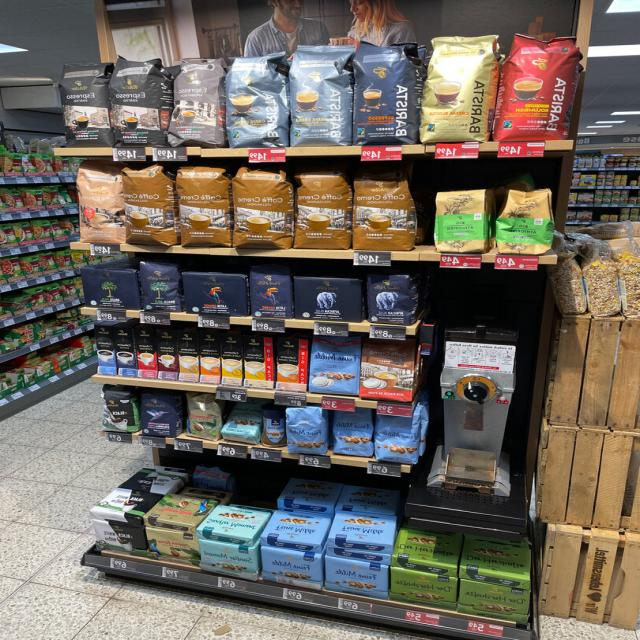AB Bohne: (364, 270, 419, 327)
AB Gemahlen: (292, 275, 364, 324)
Athiopien Bohne: (493, 184, 556, 255)
Athiopien Gemahlen: (430, 185, 489, 253)
BM Bohne: (134, 259, 181, 313)
BM Gemahlen: (77, 265, 143, 311)
BW Bohne: (97, 386, 139, 434)
BW Gemahlen: (88, 486, 164, 517), (91, 519, 147, 559), (115, 466, 187, 494)
Barista CB: (418, 31, 503, 143)
Barista CC: (285, 42, 354, 147), (224, 49, 287, 150)
Barista Espresso: (350, 40, 418, 147)
Barista Kolumbien: (489, 32, 585, 143)
C Fino Bohne: (136, 389, 180, 438)
CC Mild: (72, 161, 124, 244)
CC Vollmundig: (358, 337, 419, 404)
CC Vollmundig 36 Pads: (349, 162, 414, 252), (289, 162, 354, 251), (231, 163, 292, 250), (171, 164, 231, 251), (118, 165, 178, 246)
Colombia BB Bohne: (182, 391, 222, 441)
Colombia BB Gemahlen: (142, 493, 216, 526), (144, 527, 199, 567)
Espresso Aromatisch: (166, 55, 225, 148)
Espresso Kraftig: (108, 55, 166, 148), (57, 59, 111, 147)
FM 36 Pads: (308, 334, 362, 398)
FM Bohne: (372, 413, 420, 467), (328, 410, 376, 459), (281, 406, 328, 456)
FM Gemahlen: (323, 556, 389, 601), (259, 547, 323, 591), (259, 509, 332, 545), (327, 510, 394, 545), (277, 477, 341, 507), (334, 484, 398, 513)
FM Instant: (258, 404, 286, 450)
Herzhatfe Mundig: (457, 580, 532, 624), (459, 537, 532, 581), (390, 526, 462, 569), (389, 567, 457, 612)
LG Bohne: (247, 265, 296, 320)
LG Gemahlen: (181, 271, 251, 317)
SM Gemahlen: (195, 504, 270, 538), (197, 540, 258, 581)
Simo CCMild: (243, 335, 273, 389)
Simo CCMild bigpack: (220, 333, 242, 387)
Simo CCVollmundig: (275, 337, 308, 392)
Simo CCVollmundig bigpack: (199, 332, 220, 384)
Simo Decaff: (177, 330, 199, 382)
Simo Es Brazil: (133, 327, 158, 379)
Simo Es Caramel: (112, 326, 138, 378), (155, 329, 178, 380)
Simo Es Vanilla: (92, 324, 117, 376)
